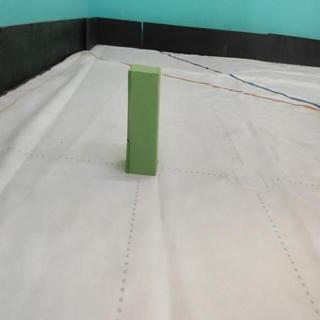greenbox: (124, 61, 164, 177)
